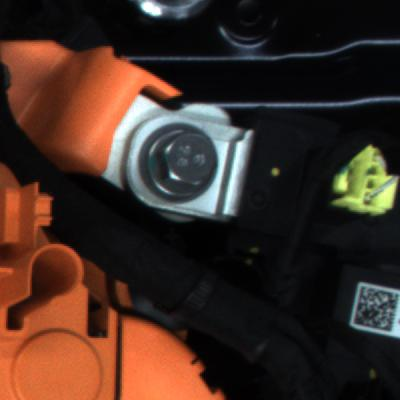nut_b: (131, 122, 238, 202)
